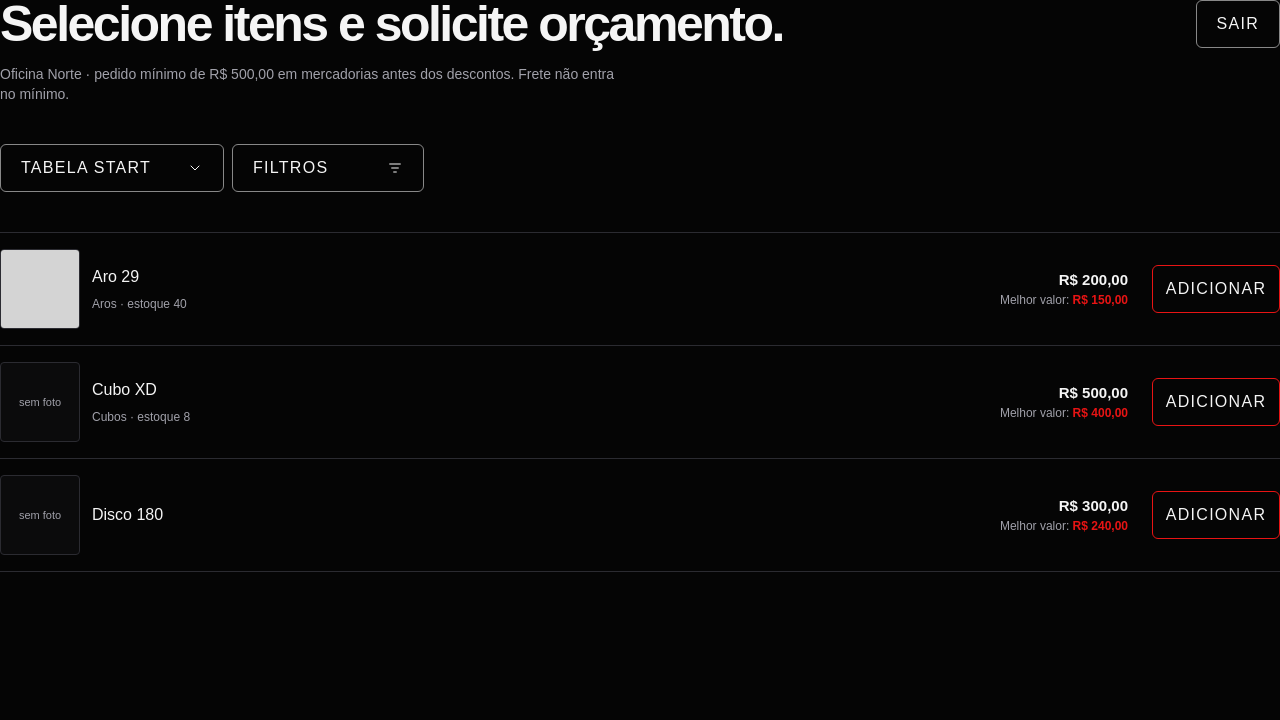
B2BCatalogPage prices › drops the best-value line once the order qualifies for Max
Click the button with aria-label "Adicionar Aro 29 ao pedido" at (1216, 289), box 1152,265 -> 1279,313
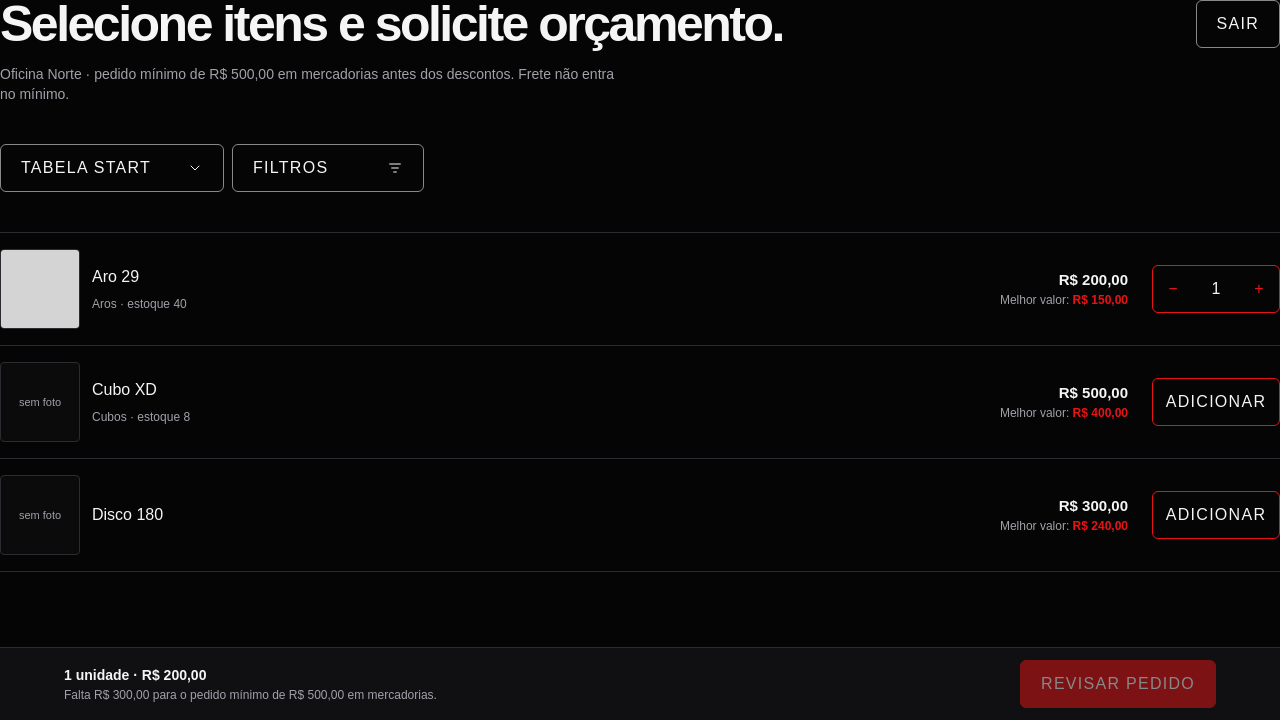
Replace the text in the number field named "Quantidade de Aro 29" with "20" at (1216, 289), box 1193,276 -> 1239,302
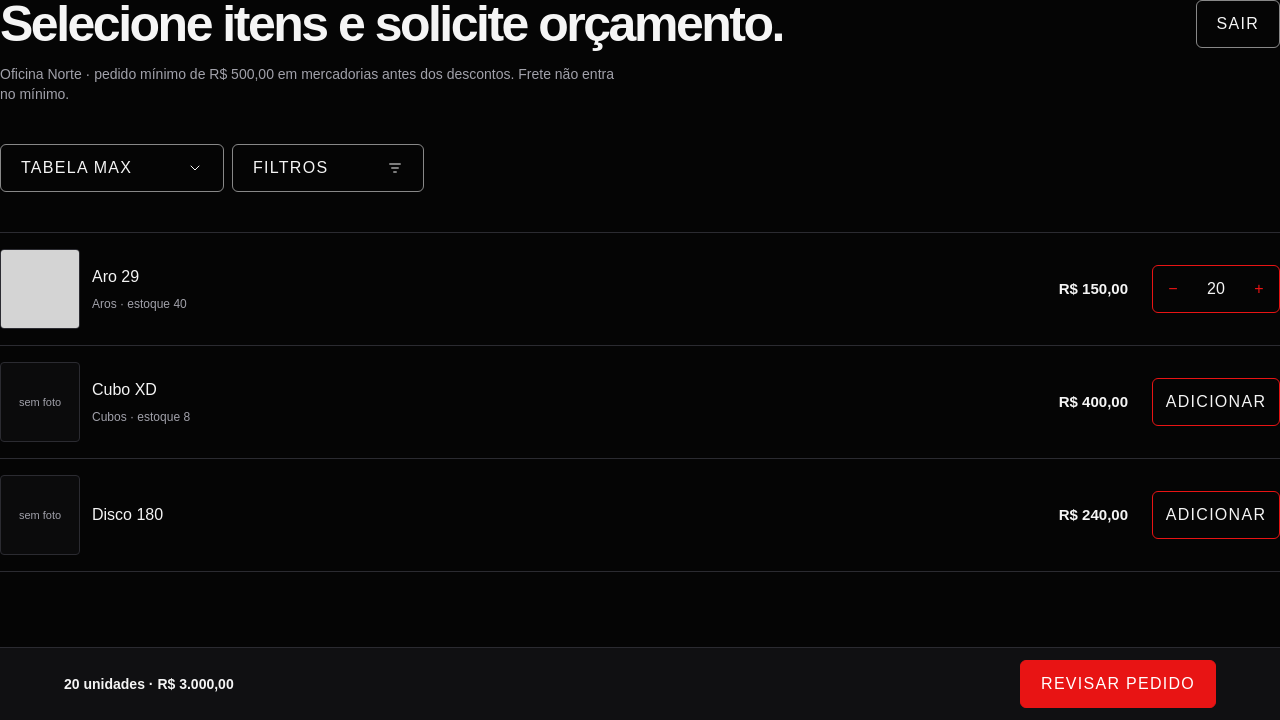
Check: the text "Melhor valor:" is gone
Click the button "Revisar pedido" at (1118, 684), box 1020,660 -> 1216,708
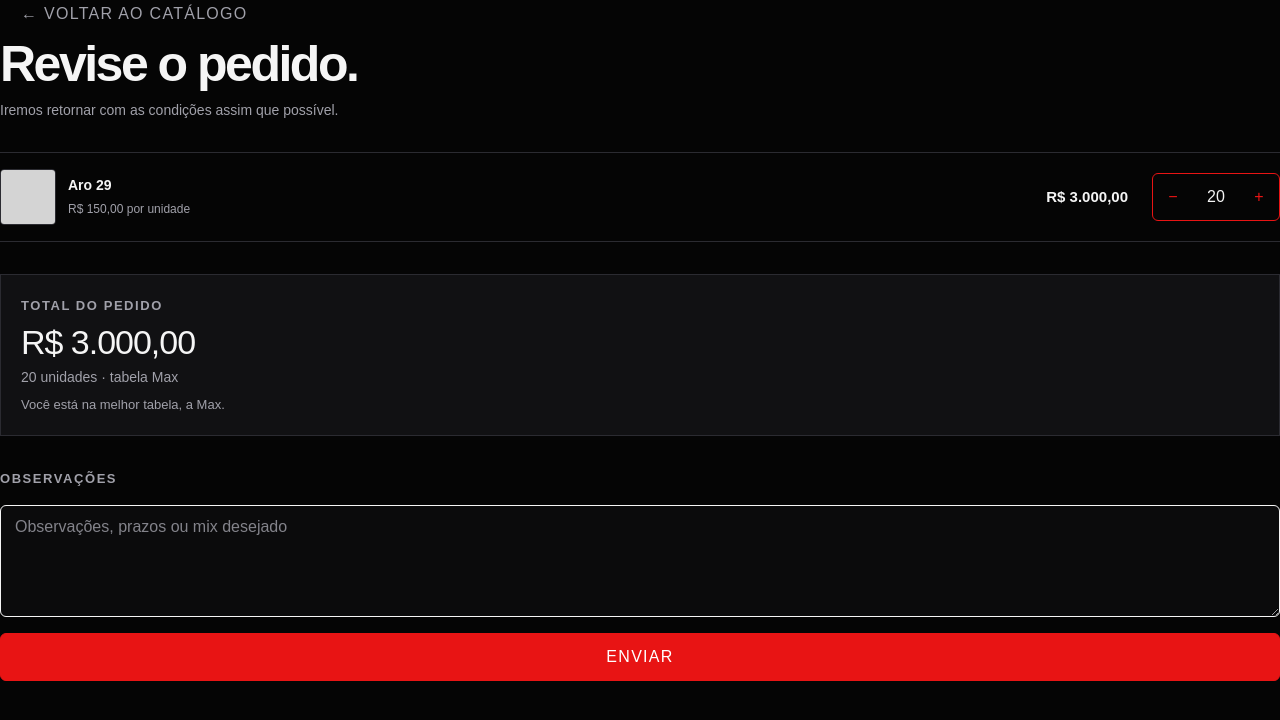
Check: the text "20 unidades · tabela Max" is shown, box 21,369 -> 178,385
Check: the text "Você está na melhor tabela, a Max." is shown, box 21,397 -> 225,412
